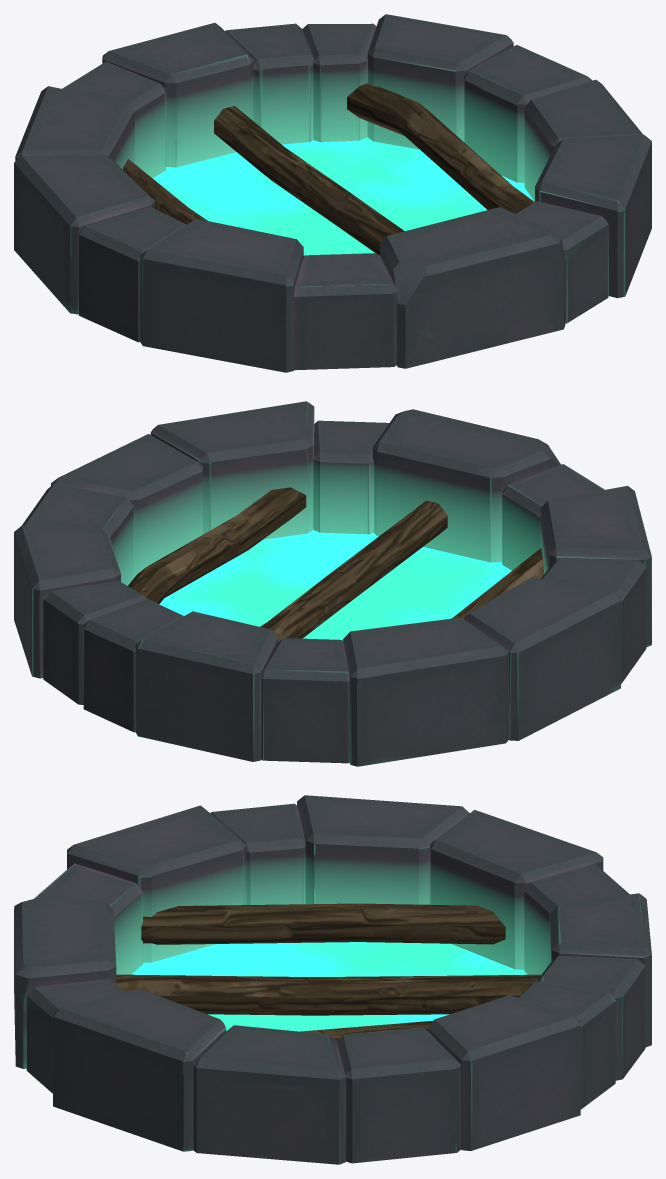
Rendered from well green.fbx.
The picture shows the model from 3 angles, top to bottom: view 1: azimuth 30°, elevation 25°; view 2: azimuth 150°, elevation 25°; view 3: azimuth 270°, elevation 25°; orthographic projection. The views are drawn at different scales.
Visible parts, largest first — view 1: well green; view 2: well green; view 3: well green.
Boxes of the visible parts, x1,y1,x2,y2 form: well green: (14, 14, 651, 372); well green: (14, 401, 651, 766); well green: (14, 795, 651, 1164).
Size of the model in its own units: 397 by 65 by 388.
